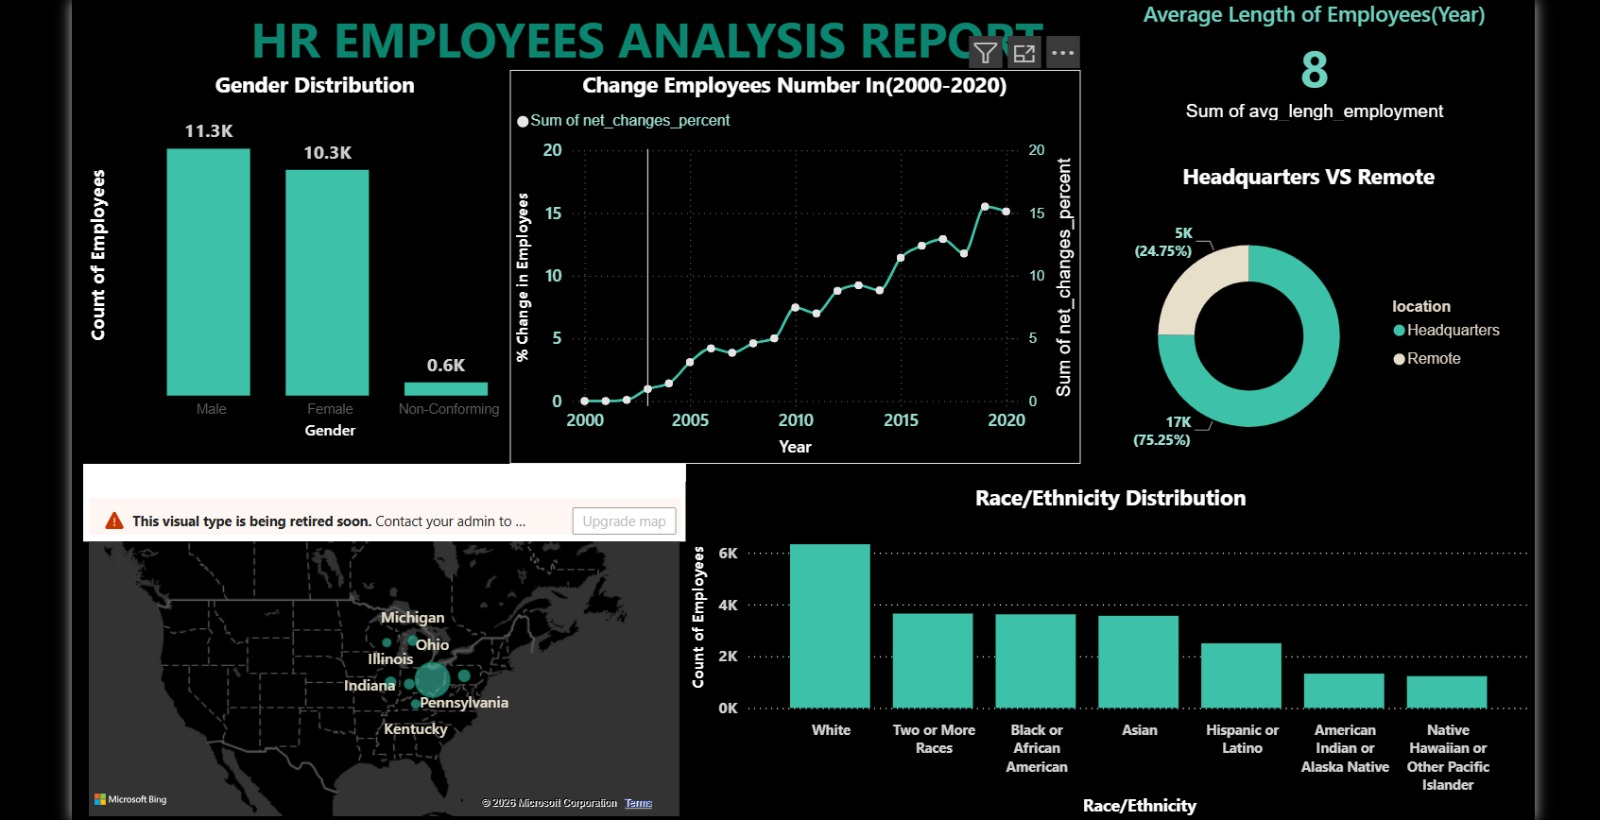

The page's visual inventory and layout, read from the dashboard file:
{"tool":"powerbi","page":{"name":"Page 1","canvas":[1280,720],"ordinal":0},"visuals":[{"type":"textbox","box":[0,0,1015,62.5],"z":0},{"type":"card","title":"Average Length of Employees(Year)","fields":{"Values":["Sum(avg_length _employment.avg_lengh_employment)"]},"box":[908.4,0,355.9,111],"z":1000},{"type":"columnChart","title":"Gender Distribution","fields":{"Y":["Sum(GENDER DISTRIBUTION.count)"],"Category":["GENDER DISTRIBUTION.gender"]},"box":[10.1,61.8,405.3,327.7],"z":2000},{"type":"donutChart","title":"Headquarters VS Remote","fields":{"Y":["Sum(LOCATION.count)"],"Category":["LOCATION.location"]},"box":[897.6,141.2,366.8,282.3],"z":3000},{"type":"lineChart","title":"Change Employees Number In(2000-2020)","fields":{"Y2":["Sum(employee change.net_changes_percent)"],"Y":["Sum(employee change.net_changes_percent)"],"Category":["employee change.year"]},"box":[383.8,62.5,498.8,343.8],"z":4000},{"type":"map","title":"Employees By State","fields":{"Category":["loaction_state.location_state"],"Size":["Sum(loaction_state.count)"]},"box":[10.1,406.7,527.4,313.3],"z":5000},{"type":"clusteredColumnChart","title":"Race/Ethnicity Distribution","fields":{"Category":["RACE DISTRIBUTION.race"],"Y":["Sum(RACE DISTRIBUTION.count)"]},"box":[536.8,423.1,743.5,297.1],"z":6000}]}

Visuals, with their boxes on the page's 1280x720 design canvas (x1, y1, x2, y2). These are canvas units, not pixel positions in the 1600x820 screenshot, which may show the page scaled, cropped or inside an application window:
textbox: 0:0:1015:62
"Average Length of Employees(Year)" card: 908:0:1264:111
"Gender Distribution" columnChart: 10:62:415:390
"Headquarters VS Remote" donutChart: 898:141:1264:424
"Change Employees Number In(2000-2020)" lineChart: 384:62:883:406
"Employees By State" map: 10:407:538:720
"Race/Ethnicity Distribution" clusteredColumnChart: 537:423:1280:720
